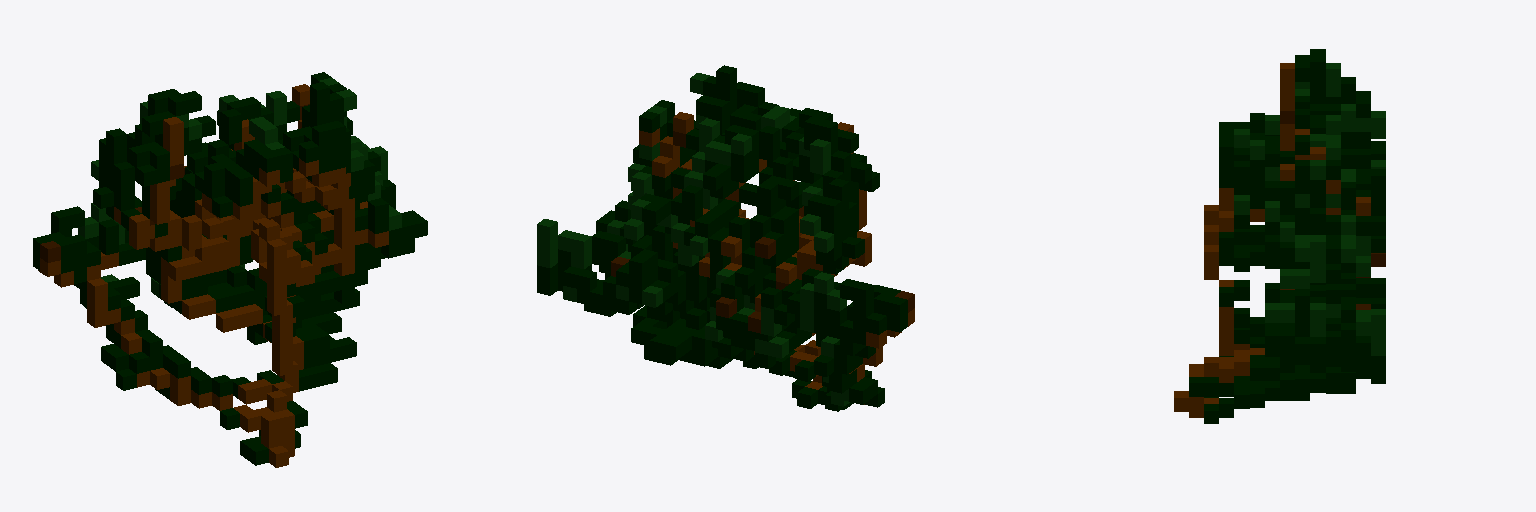
3 views of the same model, side by side, from view 1: azimuth 30°, elevation 25°; view 2: azimuth 150°, elevation 25°; view 3: azimuth 270°, elevation 25° (orthographic).
Parts seen in each view (by area): view 1: object 1; view 2: object 1; view 3: object 1.
Boxes of the visible parts, x1,y1,x2,y2 form: object 1: [33, 72, 427, 467]; object 1: [537, 65, 914, 411]; object 1: [1174, 49, 1385, 423].
Bounding box in the file's own units: 2.7 × 2.4 × 1.4.
1 materials, 1 textured.